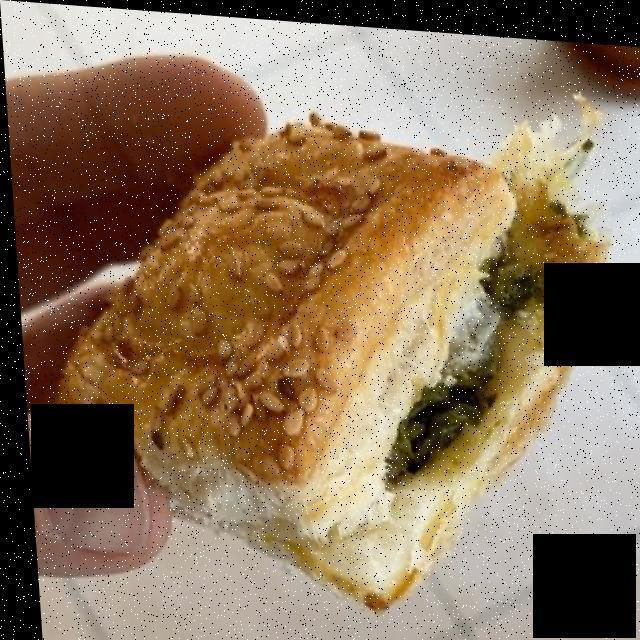puff-pastry: (59, 116, 599, 595)
